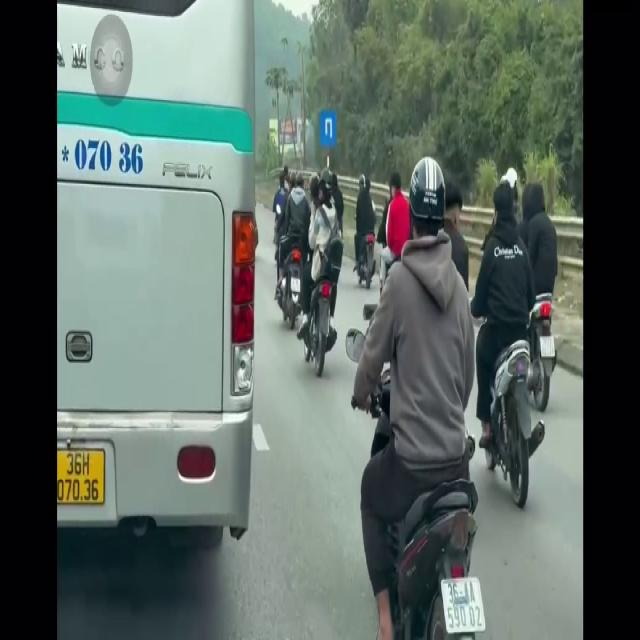helmet: (404, 145, 451, 285)
